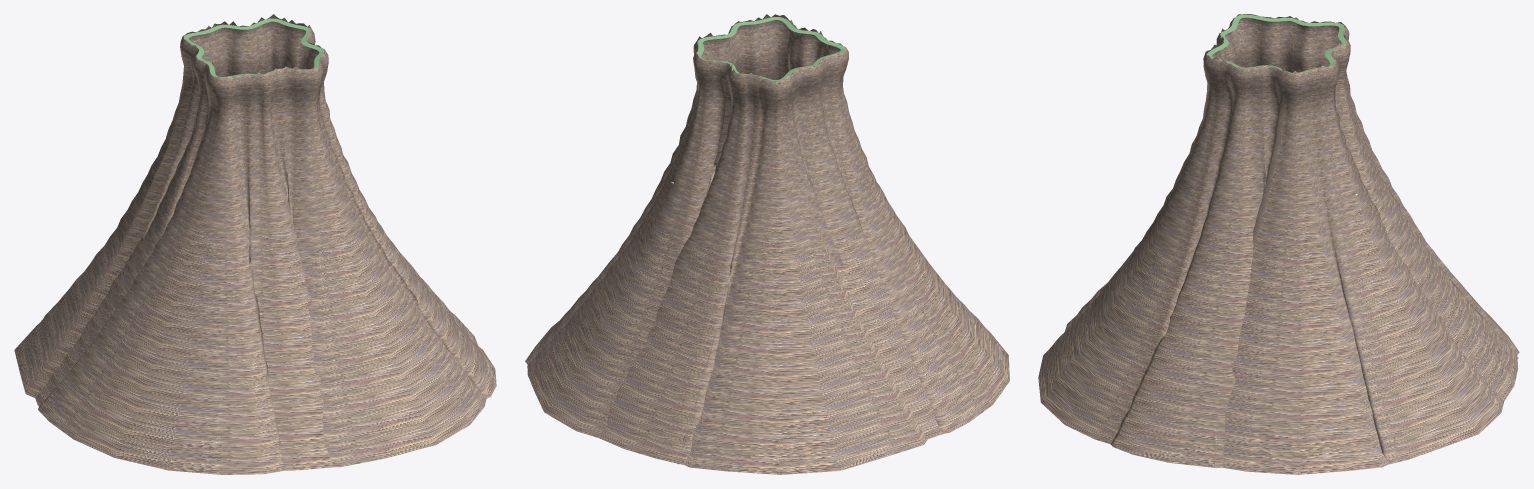
Rendered from CliffWall_stack_00.glb.
3 views of the same model, side by side, from view 1: azimuth 30°, elevation 25°; view 2: azimuth 150°, elevation 25°; view 3: azimuth 270°, elevation 25° (orthographic).
Parts seen in each view (by area): view 1: CliffWall_stack_00-rock0, CliffWall_stack_00-lip0; view 2: CliffWall_stack_00-rock0, CliffWall_stack_00-lip0; view 3: CliffWall_stack_00-rock0, CliffWall_stack_00-lip0.
Boxes of the visible parts, x1,y1,x2,y2 form: CliffWall_stack_00-rock0: (14, 14, 496, 474); CliffWall_stack_00-lip0: (183, 18, 324, 78); CliffWall_stack_00-rock0: (525, 14, 1009, 474); CliffWall_stack_00-lip0: (696, 17, 846, 81); CliffWall_stack_00-rock0: (1038, 14, 1519, 474); CliffWall_stack_00-lip0: (1206, 14, 1346, 73).
Bounding box in the file's own units: 771 × 586 × 769.
4 materials, 1 textured.
